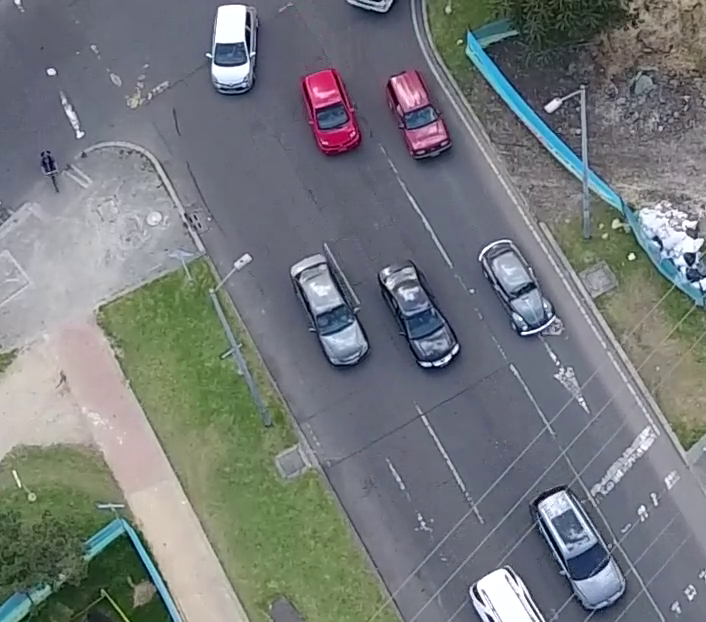car: (528, 485, 628, 612), (288, 251, 370, 370), (376, 259, 460, 374), (476, 236, 556, 337), (381, 67, 454, 161), (298, 67, 363, 158), (206, 3, 257, 97)
